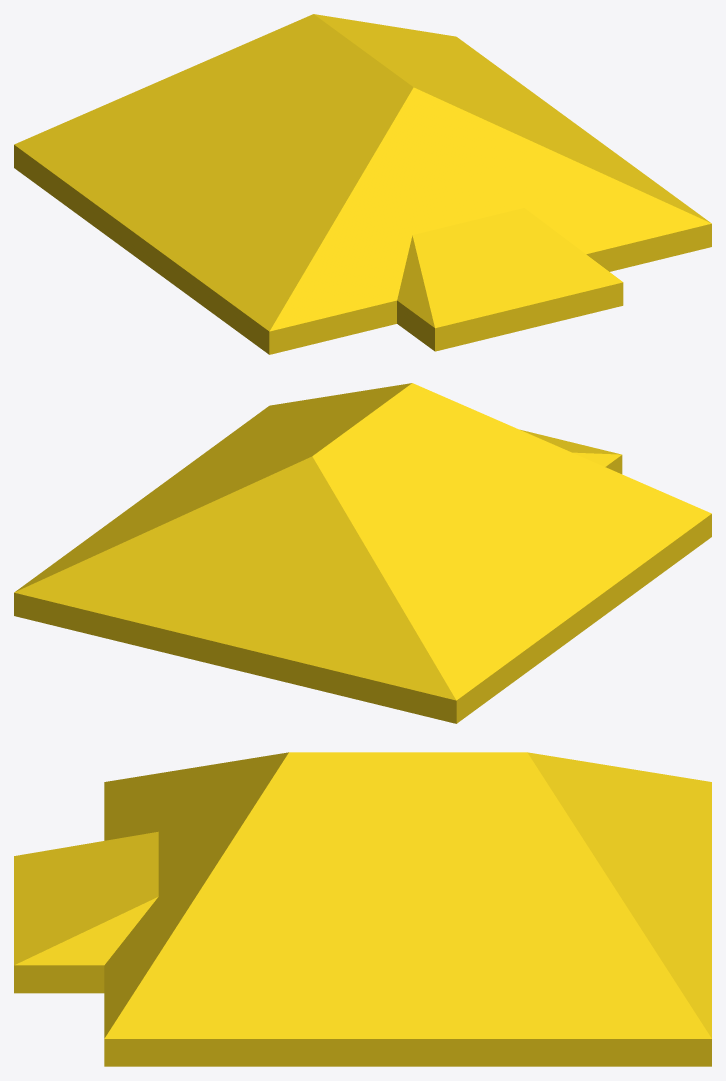
Rendered from Town_Bld-Med_Roof4FloorE.FBX.
3 renders of one model, top to bottom at view 1: azimuth 30°, elevation 25°; view 2: azimuth 150°, elevation 25°; view 3: azimuth 270°, elevation 25°, orthographic. The views are drawn at different scales.
Parts seen in each view (by area): view 1: Town_Bld-Med_Roof4FloorE; view 2: Town_Bld-Med_Roof4FloorE; view 3: Town_Bld-Med_Roof4FloorE.
Boxes of the visible parts, x1,y1,x2,y2 form: Town_Bld-Med_Roof4FloorE: (14, 14, 711, 354); Town_Bld-Med_Roof4FloorE: (14, 383, 711, 723); Town_Bld-Med_Roof4FloorE: (14, 752, 711, 1066).
Bounding box in the file's own units: 640 × 217 × 735.
